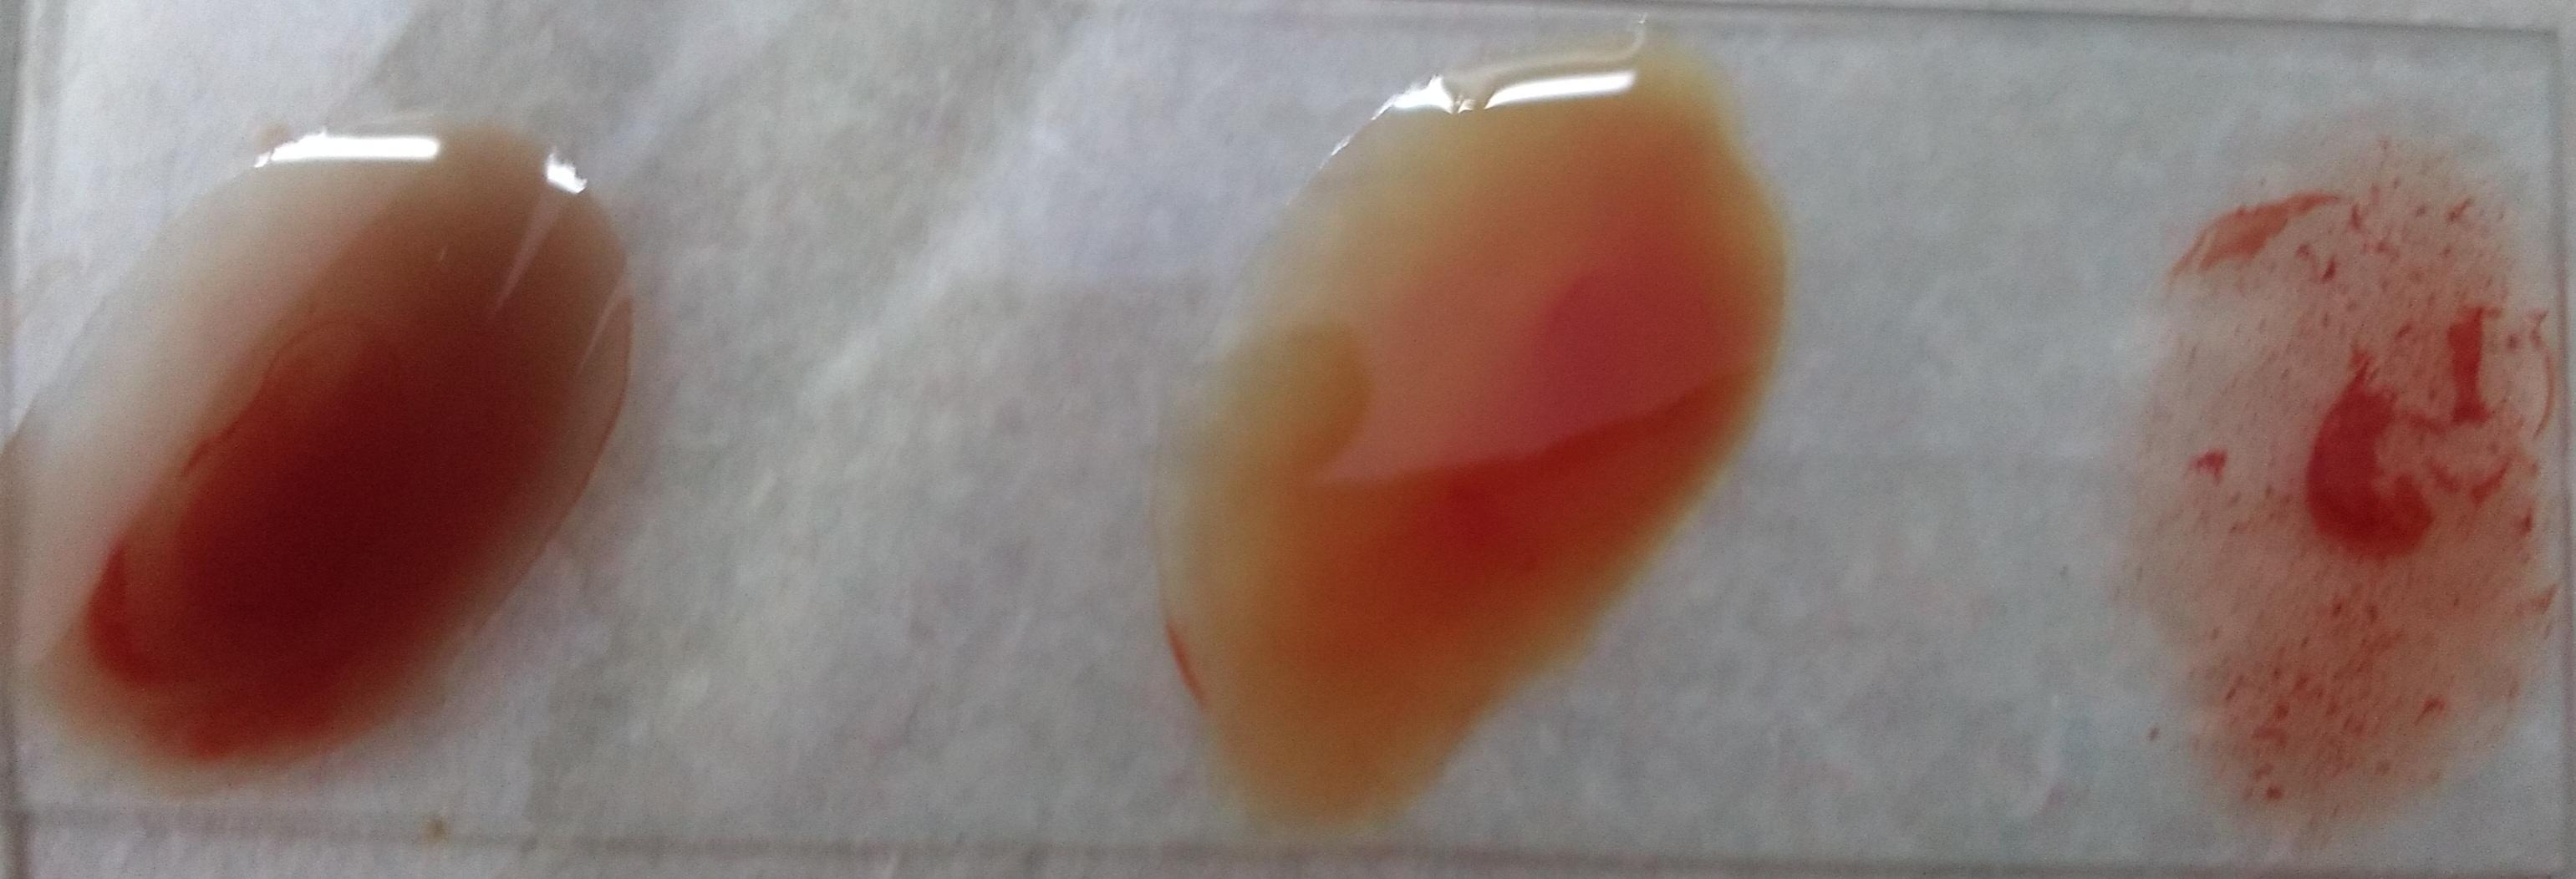D: (2165, 159, 2548, 820)
